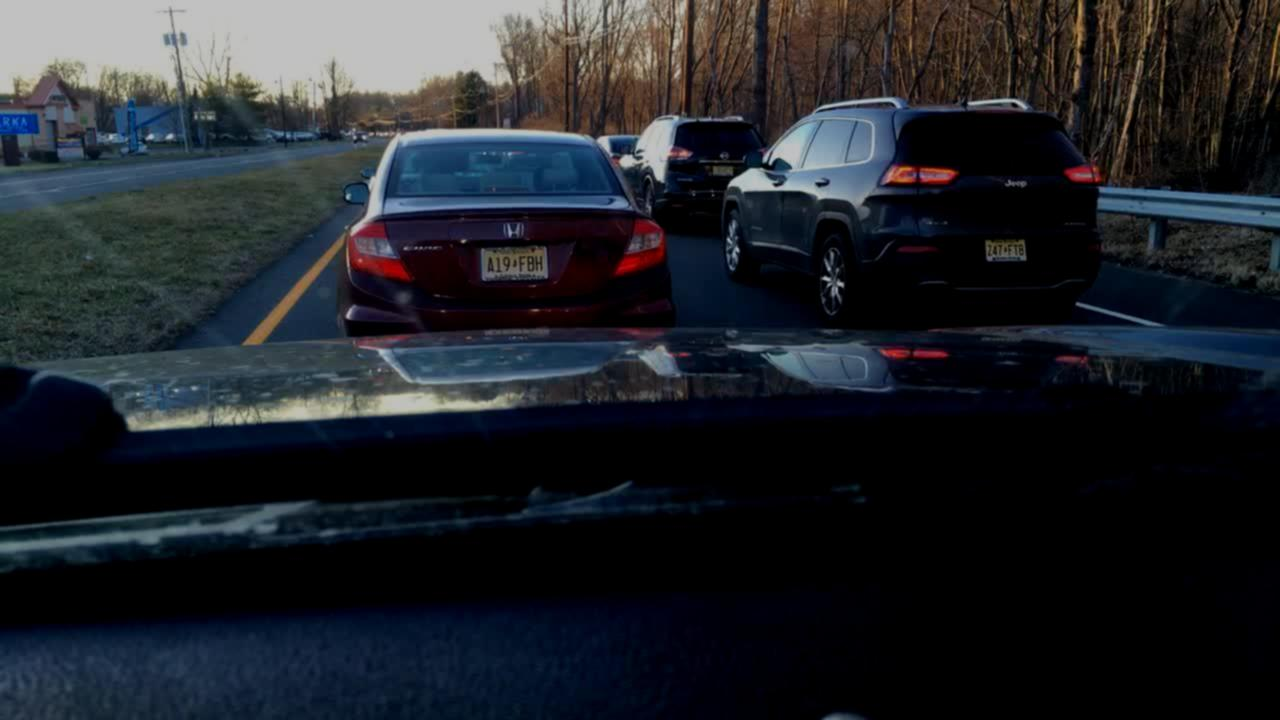jeep: (999, 175, 1034, 197)
